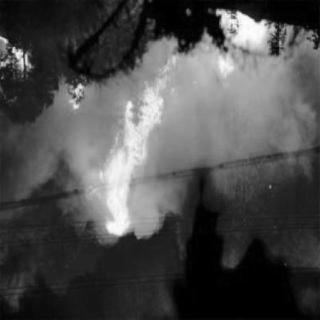Fire: (90, 70, 176, 244), (203, 10, 280, 86), (1, 42, 40, 90)
